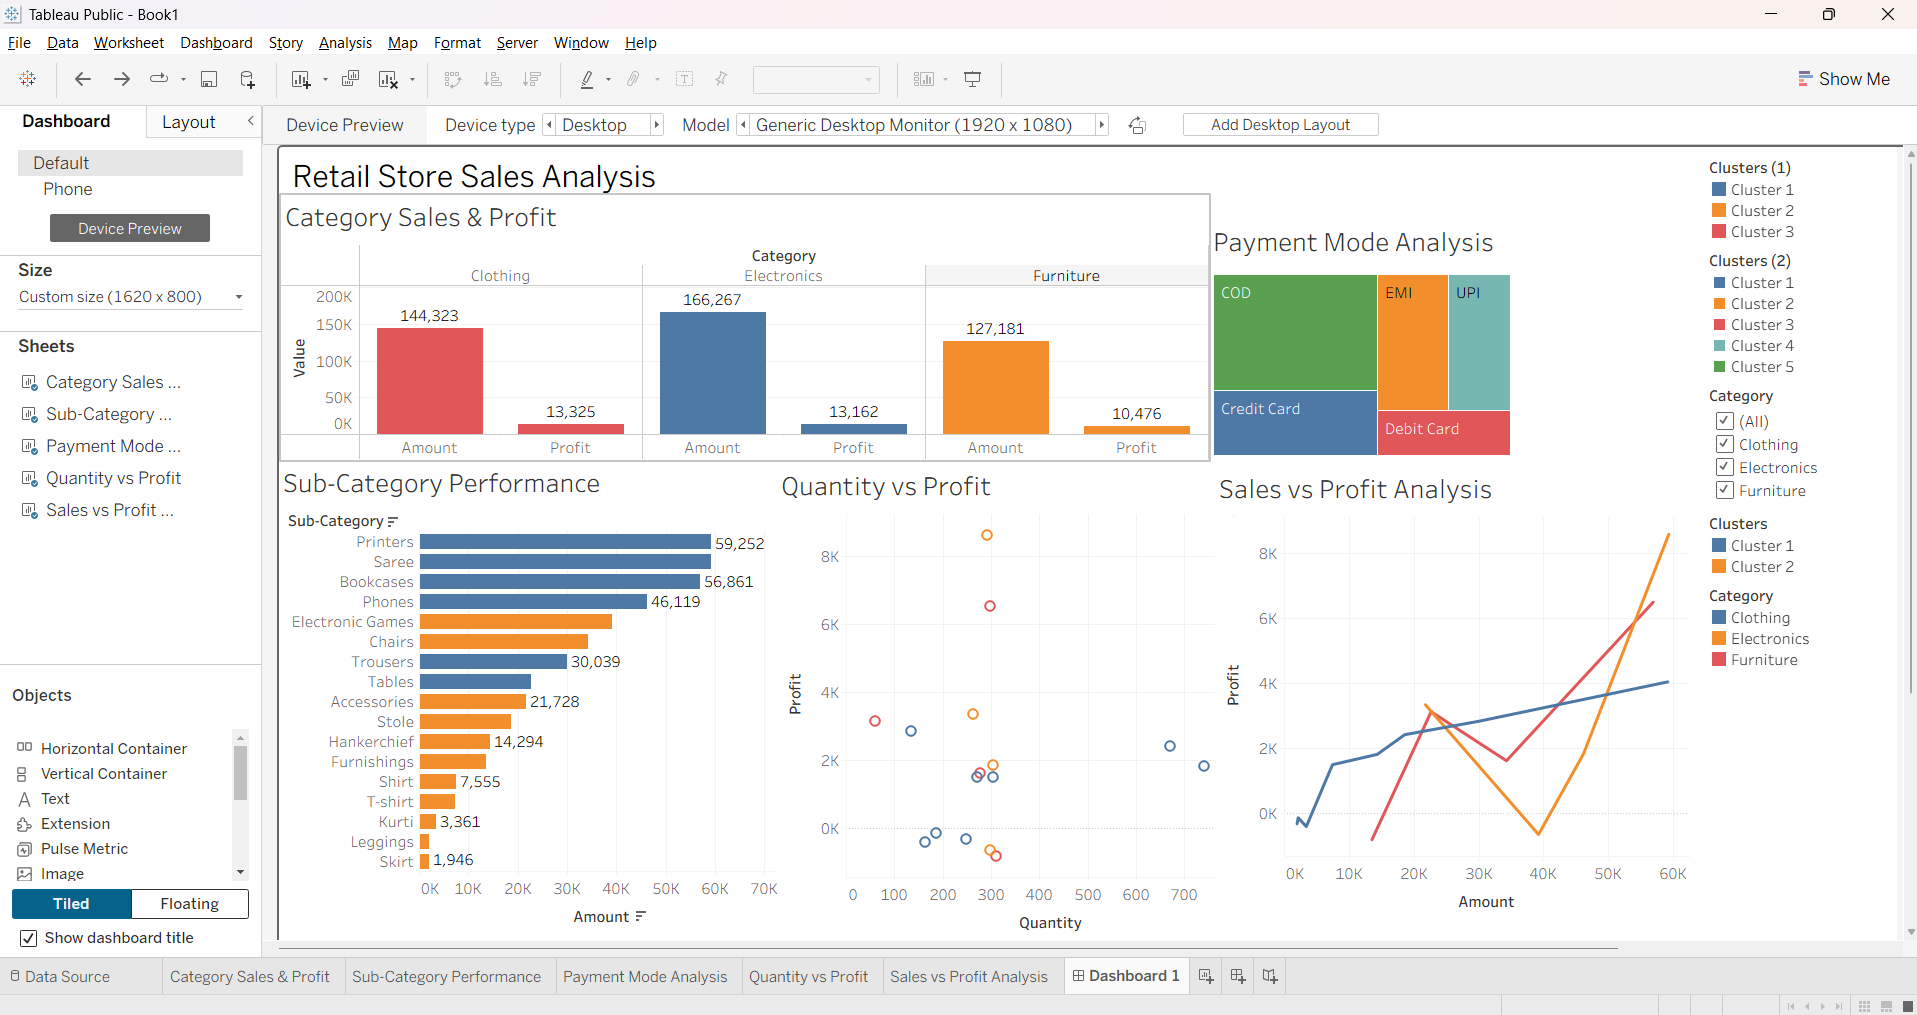

The page's visual inventory and layout, read from the dashboard file:
{"tool":"tableau","page":{"name":"Dashboard 1","canvas":[1620,800],"ordinal":0},"visuals":[{"type":"title","box":[8,8,1420,46]},{"type":"legend","title":"Category Sales & Profit","param":"[federated.0h9y6q004flgfv15axg6n1prja3o].[none:AdhocCluster:2:ok]","box":[1428,8,184,93]},{"type":"worksheet","title":"Category Sales & Profit","mark":"Automatic","cols":["Category"],"box":[4,50,928,265]},{"type":"worksheet","title":"Payment Mode Analysis","mark":"Automatic","box":[932,75,481,240]},{"type":"legend","title":"Payment Mode Analysis","param":"[federated.0h9y6q004flgfv15axg6n1prja3o].[none:AdhocCluster:3:ok]","box":[1428,101,184,135]},{"type":"filter","title":"Sub-Category Performance","param":"[federated.0h9y6q004flgfv15axg6n1prja3o].[none:Category:nk]","box":[1428,236,184,128]},{"type":"worksheet","title":"Sub-Category Performance","mark":"Automatic","rows":["Sub-Category"],"cols":["Amount"],"box":[2,316,505,476]},{"type":"worksheet","title":"Quantity vs Profit","mark":"Automatic","rows":["Profit"],"cols":["Quantity"],"box":[500,319,478,476]},{"type":"worksheet","title":"Sales vs Profit Analysis","mark":"Line","rows":["Profit"],"cols":["Amount"],"box":[938,322,475,452]},{"type":"legend","title":"Sub-Category Performance","param":"[federated.0h9y6q004flgfv15axg6n1prja3o].[none:AdhocCluster:1:ok]","box":[1428,364,184,72]},{"type":"legend","title":"Quantity vs Profit","param":"[federated.0h9y6q004flgfv15axg6n1prja3o].[none:Category:nk]","box":[1428,436,184,93]}]}

Visuals, with their boxes on the page's 1620x800 design canvas (x1, y1, x2, y2). These are canvas units, not pixel positions in the 1917x1015 screenshot, which may show the page scaled, cropped or inside an application window:
title: [8, 8, 1428, 54]
"Category Sales & Profit" legend: [1428, 8, 1612, 101]
"Category Sales & Profit" worksheet: [4, 50, 932, 315]
"Payment Mode Analysis" worksheet: [932, 75, 1413, 315]
"Payment Mode Analysis" legend: [1428, 101, 1612, 236]
"Sub-Category Performance" filter: [1428, 236, 1612, 364]
"Sub-Category Performance" worksheet: [2, 316, 507, 792]
"Quantity vs Profit" worksheet: [500, 319, 978, 795]
"Sales vs Profit Analysis" worksheet (Line marks): [938, 322, 1413, 774]
"Sub-Category Performance" legend: [1428, 364, 1612, 436]
"Quantity vs Profit" legend: [1428, 436, 1612, 529]
